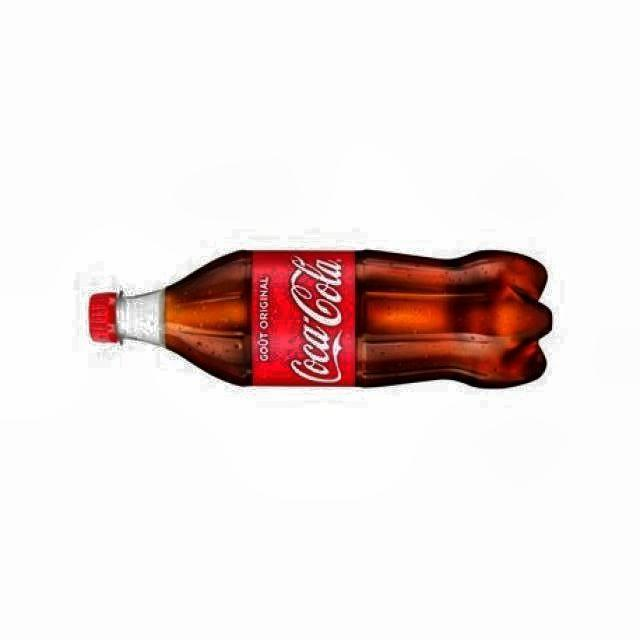plastic: (90, 251, 551, 387)
